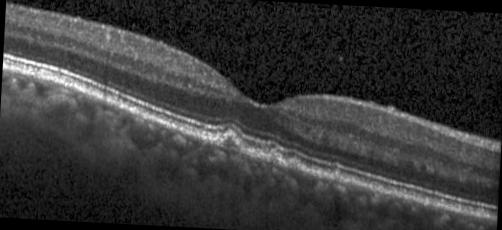retinal_drusen: (221, 134, 240, 150), (269, 151, 284, 165), (287, 163, 304, 173), (330, 168, 341, 180)
